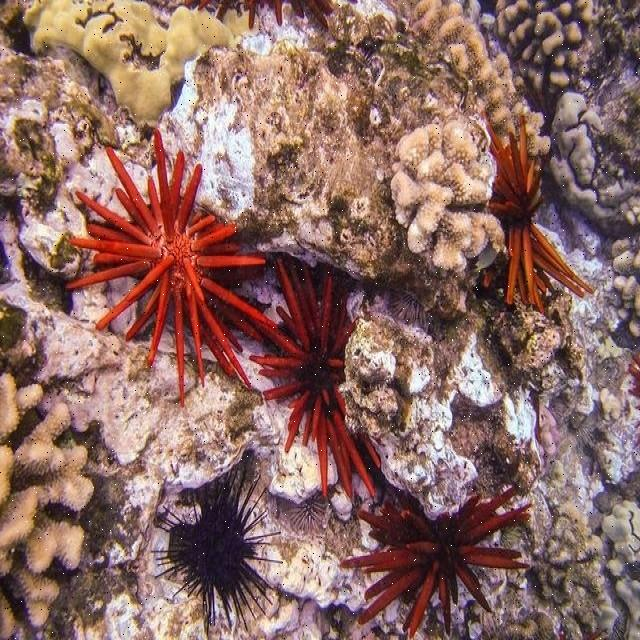reefs: (65, 127, 274, 408), (250, 256, 382, 497), (339, 488, 530, 636), (0, 372, 93, 639), (150, 465, 284, 637), (485, 114, 595, 311), (408, 6, 549, 152), (391, 122, 506, 269), (498, 7, 600, 108)
